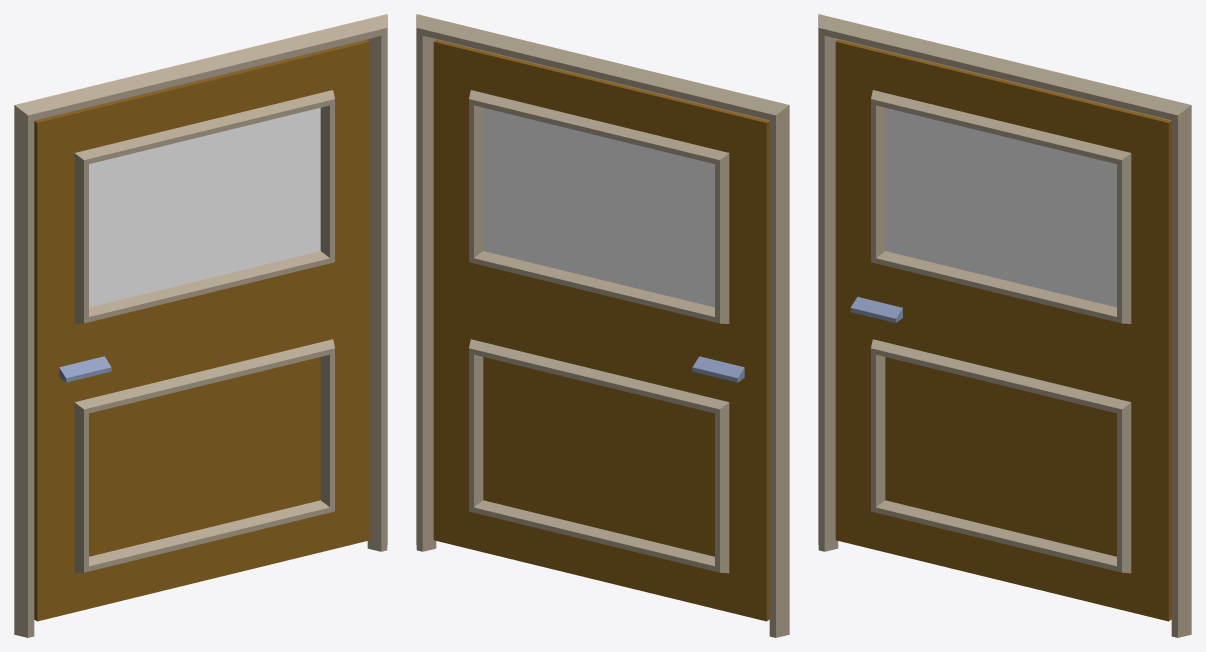
The model's file is door_outside.fbx.
3 views of the same model, side by side, from view 1: azimuth 30°, elevation 25°; view 2: azimuth 150°, elevation 25°; view 3: azimuth 330°, elevation 25° (orthographic).
Parts seen in each view (by area): view 1: door_outside; view 2: door_outside; view 3: door_outside.
Boxes of the visible parts, x1=… form: door_outside: x1=14, y1=14, x2=387, y2=637; door_outside: x1=416, y1=14, x2=789, y2=637; door_outside: x1=818, y1=14, x2=1191, y2=637.
Bounding box in the file's own units: 150 × 203 × 13.69.
